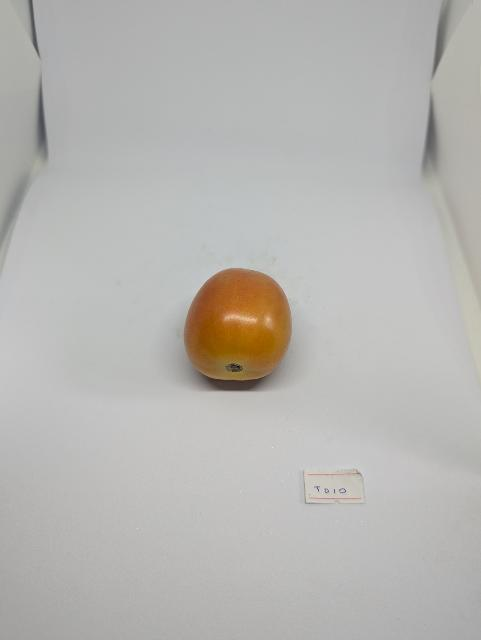turning: (183, 263, 300, 391)
